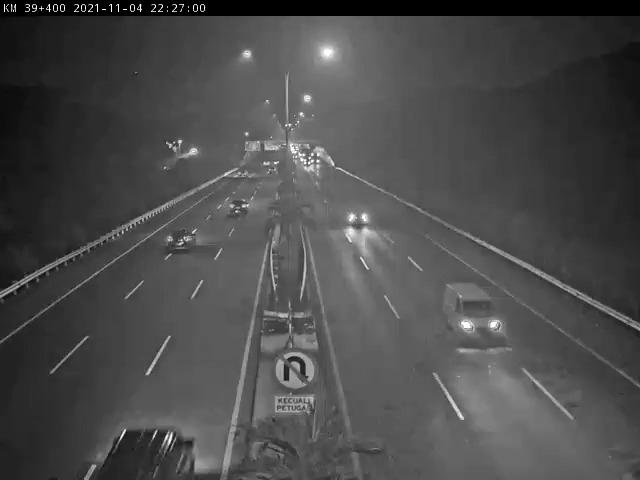car: (442, 281, 500, 344), (163, 229, 196, 252), (343, 200, 369, 226), (228, 197, 252, 218)
